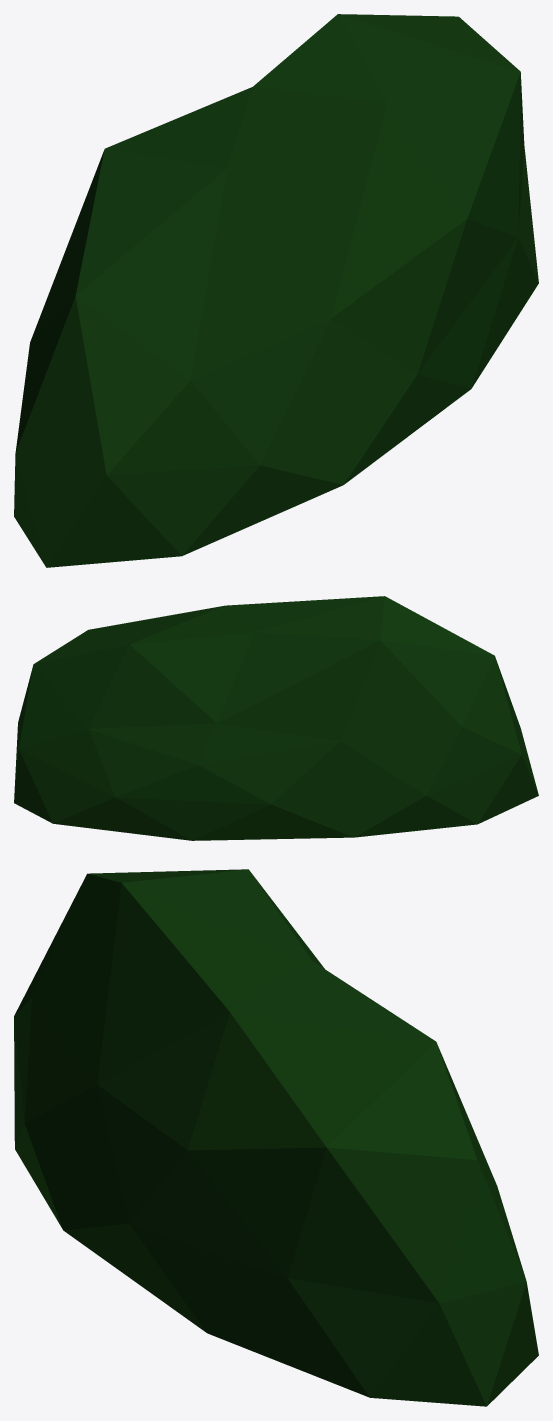
File: bush.FBX
3 renders of one model, top to bottom at view 1: azimuth 30°, elevation 25°; view 2: azimuth 150°, elevation 25°; view 3: azimuth 270°, elevation 25°, orthographic. The views are drawn at different scales.
Visible parts, largest first — view 1: Bush_01_mesh; view 2: Bush_01_mesh; view 3: Bush_01_mesh.
Part boxes in pixels (x1,y1,x2,y2): Bush_01_mesh: (14,14,538,567); Bush_01_mesh: (14,596,538,840); Bush_01_mesh: (14,869,538,1406).
Bounding box in the file's own units: 413 × 189 × 283.
